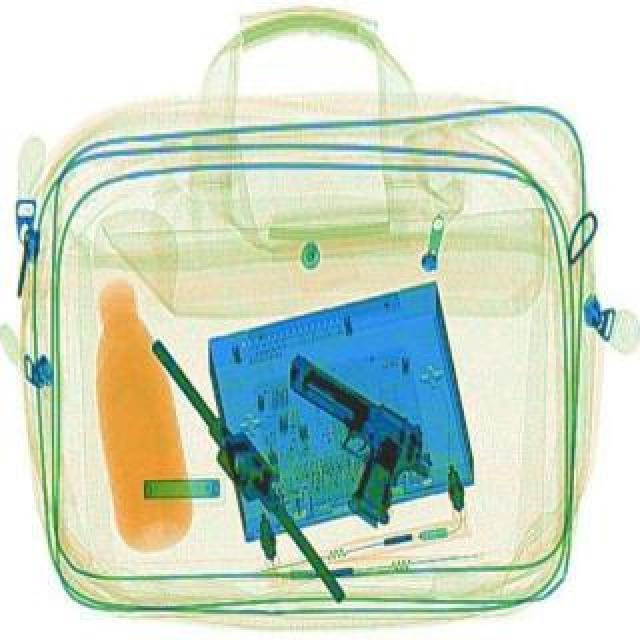gun: (230, 348, 450, 532)
